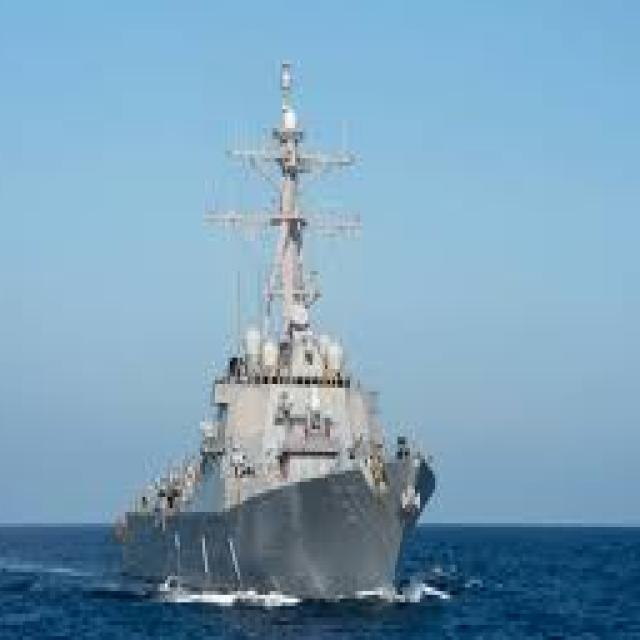navalvessels: (107, 62, 434, 593)
